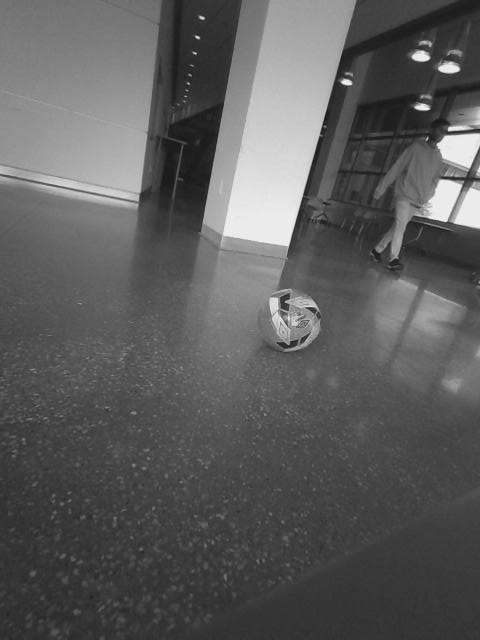ball: (257, 287, 325, 355)
